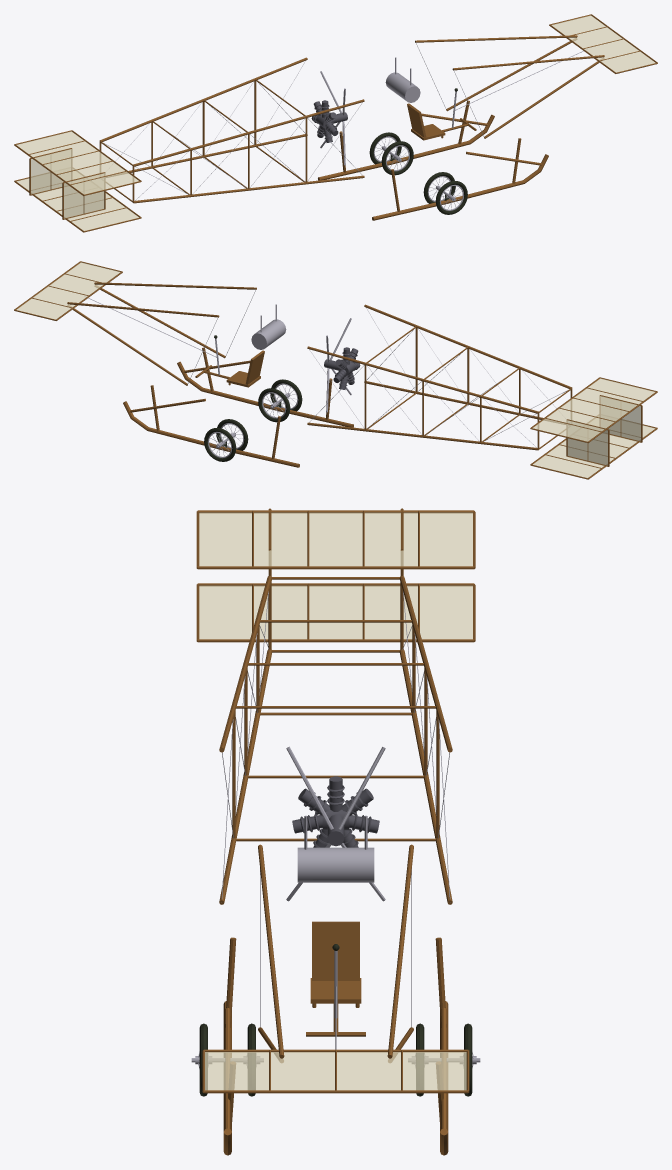
Rendered from aeroplan-fuzelyazh.glb.
3 renders of one model, top to bottom at view 1: azimuth 30°, elevation 25°; view 2: azimuth 150°, elevation 25°; view 3: azimuth 270°, elevation 25°, orthographic. The views are drawn at different scales.
Visible parts, largest first — view 1: aeroplan_fuzelyazh; view 2: aeroplan_fuzelyazh; view 3: aeroplan_fuzelyazh.
Boxes of the visible parts, x1=… form: aeroplan_fuzelyazh: x1=14, y1=14, x2=657, y2=232; aeroplan_fuzelyazh: x1=14, y1=261, x2=657, y2=479; aeroplan_fuzelyazh: x1=191, y1=508, x2=480, y2=1155.
Bounding box in the file's own units: 11.12 × 2.43 × 2.4.
Materials: 5 (5 with a texture image).
